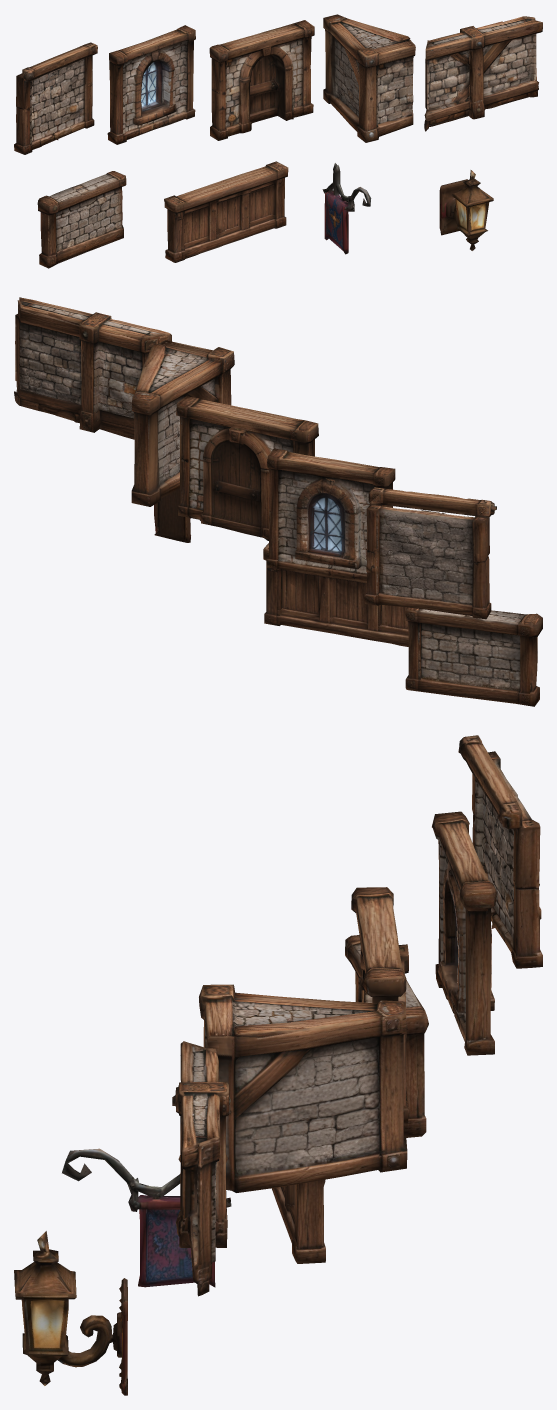
File: tripo_convert_8fb98191-fde4-4b97-8b29-9399f46a52d6.fbx
3 views of the same model, one above another, from view 1: azimuth 30°, elevation 25°; view 2: azimuth 150°, elevation 25°; view 3: azimuth 270°, elevation 25° (orthographic). The views are drawn at different scales.
Visible parts, largest first — view 1: tripo_part_0, tripo_part_3, tripo_part_7, tripo_part_1, tripo_part_4, tripo_part_2, tripo_part_6, tripo_part_5, tripo_part_8; view 2: tripo_part_0, tripo_part_2, tripo_part_3, tripo_part_4, tripo_part_6, tripo_part_7, tripo_part_1, tripo_part_5; view 3: tripo_part_7, tripo_part_4, tripo_part_2, tripo_part_0, tripo_part_5, tripo_part_8, tripo_part_3, tripo_part_6, tripo_part_1.
Boxes of the visible parts, bbox=[...] form: tripo_part_0: bbox=[424, 16, 542, 131]; tripo_part_3: bbox=[209, 20, 314, 140]; tripo_part_7: bbox=[323, 14, 415, 142]; tripo_part_1: bbox=[164, 161, 288, 262]; tripo_part_4: bbox=[107, 25, 195, 144]; tripo_part_2: bbox=[14, 42, 97, 154]; tripo_part_6: bbox=[37, 171, 126, 268]; tripo_part_5: bbox=[439, 170, 493, 250]; tripo_part_8: bbox=[322, 163, 371, 254]; tripo_part_0: bbox=[14, 297, 171, 439]; tripo_part_2: bbox=[364, 487, 496, 619]; tripo_part_3: bbox=[176, 396, 318, 539]; tripo_part_4: bbox=[266, 448, 395, 583]; tripo_part_6: bbox=[405, 607, 542, 706]; tripo_part_7: bbox=[131, 340, 234, 506]; tripo_part_1: bbox=[263, 543, 408, 646]; tripo_part_5: bbox=[154, 488, 200, 542]; tripo_part_7: bbox=[199, 984, 407, 1192]; tripo_part_4: bbox=[432, 811, 496, 1055]; tripo_part_2: bbox=[458, 735, 542, 968]; tripo_part_0: bbox=[172, 1041, 230, 1296]; tripo_part_5: bbox=[14, 1231, 127, 1395]; tripo_part_8: bbox=[62, 1148, 231, 1287]; tripo_part_3: bbox=[351, 887, 408, 1123]; tripo_part_6: bbox=[345, 935, 428, 1137]; tripo_part_1: bbox=[271, 1179, 325, 1263].
Bounding box in the file's own units: 0.9806 × 0.373 × 0.5225.
Materials: 9 (9 with a texture image).
